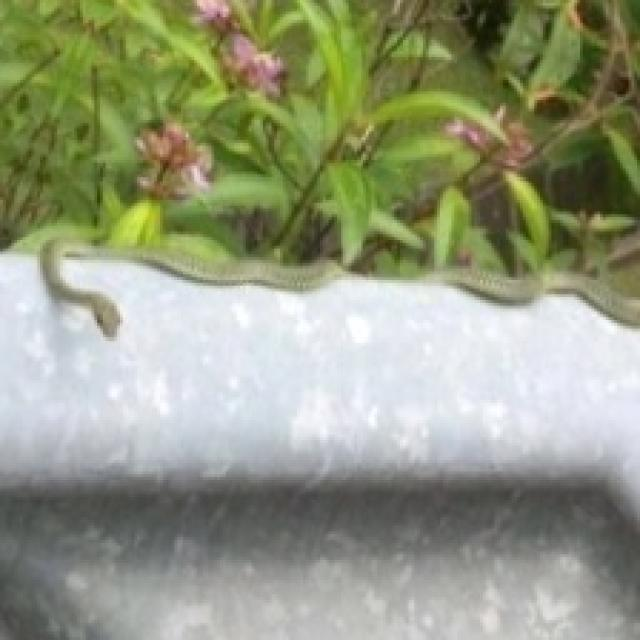paradise tree snake: (40, 237, 340, 334), (423, 269, 637, 323)
